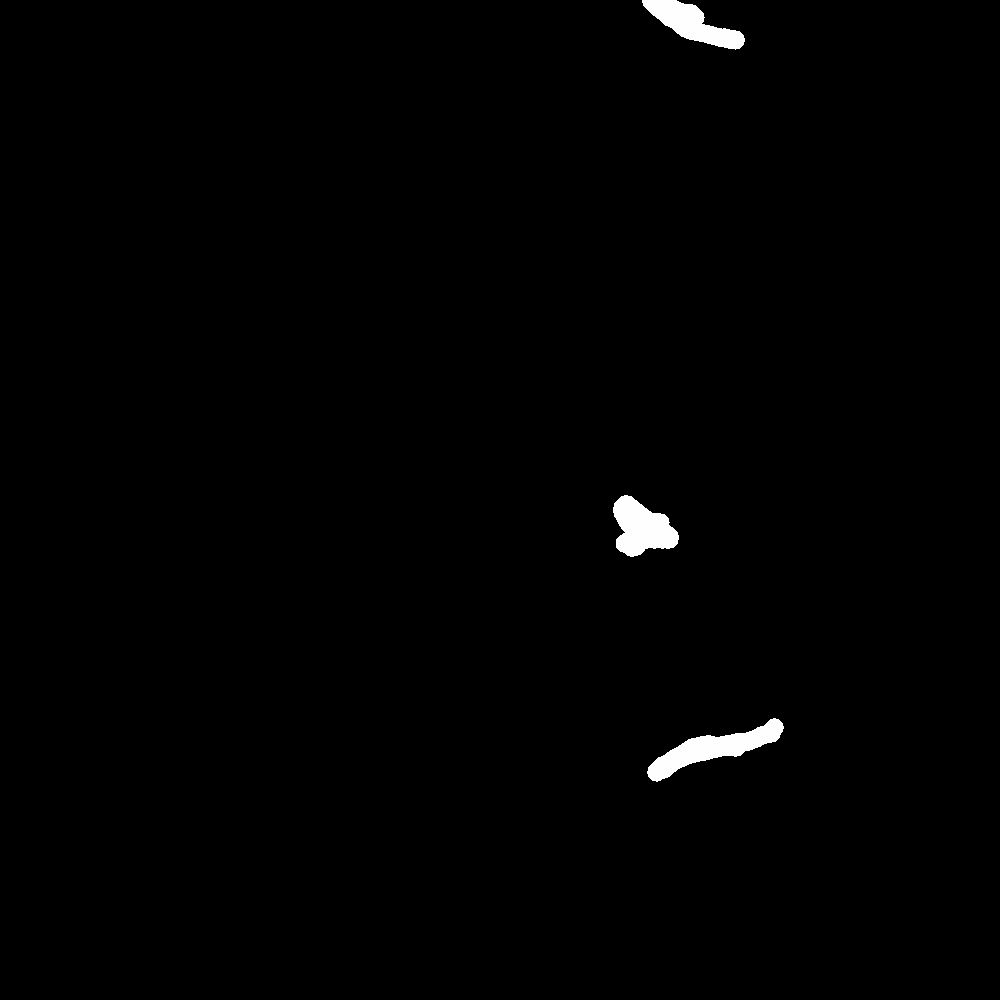illegal: (558, 69, 727, 146), (704, 575, 807, 670)
